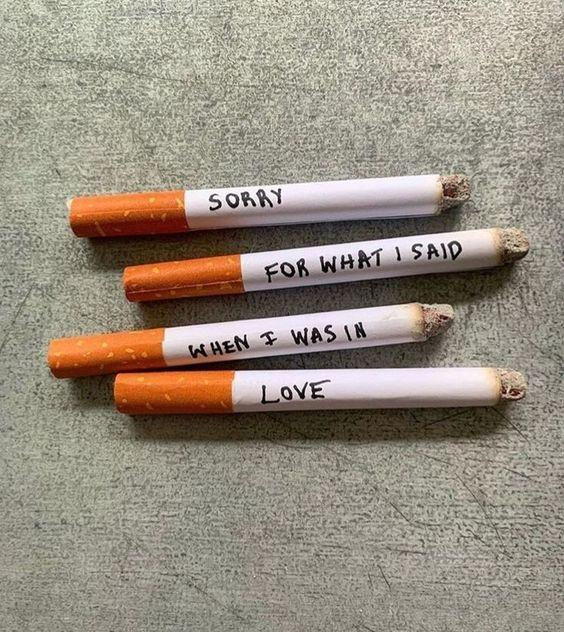cigarette: (47, 303, 455, 379), (123, 229, 532, 303), (68, 175, 471, 239), (112, 367, 526, 417)
